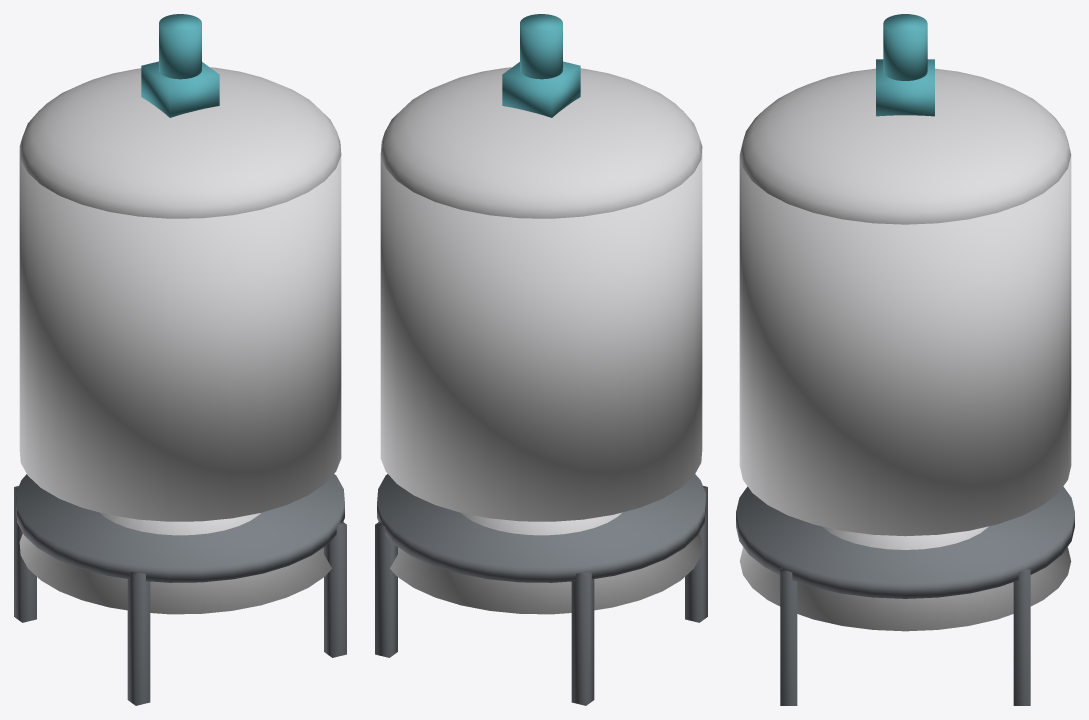
File: astm_vertical_tank.glb
3 views of the same model, side by side, from view 1: azimuth 30°, elevation 25°; view 2: azimuth 150°, elevation 25°; view 3: azimuth 270°, elevation 25° (orthographic). The views are drawn at different scales.
Parts seen in each view (by area): view 1: VerticalCylinderShell, TopDomeHead, StandRingGirder, ConeBottom, TankLeg_-0.95_-0.95, MixerGearbox, TankLeg_0.95_-0.95, MixerTEFCMotor, TankLeg_-0.95_0.95; view 2: VerticalCylinderShell, TopDomeHead, StandRingGirder, ConeBottom, TankLeg_-0.95_0.95, MixerGearbox, TankLeg_0.95_0.95, MixerTEFCMotor, TankLeg_-0.95_-0.95; view 3: VerticalCylinderShell, TopDomeHead, StandRingGirder, ConeBottom, MixerTEFCMotor, MixerGearbox, TankLeg_0.95_0.95, TankLeg_0.95_-0.95.
Part boxes in pixels (x1,y1,x2,y2): VerticalCylinderShell: [19, 149, 341, 521]; TopDomeHead: [19, 67, 341, 218]; StandRingGirder: [16, 474, 344, 582]; ConeBottom: [19, 512, 331, 614]; TankLeg_-0.95_-0.95: [127, 572, 150, 705]; MixerGearbox: [141, 61, 219, 117]; TankLeg_0.95_-0.95: [324, 520, 346, 657]; MixerTEFCMotor: [159, 14, 201, 79]; TankLeg_-0.95_0.95: [14, 486, 36, 622]; VerticalCylinderShell: [380, 149, 702, 521]; TopDomeHead: [380, 67, 702, 218]; StandRingGirder: [377, 474, 705, 582]; ConeBottom: [390, 512, 702, 614]; TankLeg_-0.95_0.95: [571, 572, 594, 705]; MixerGearbox: [502, 61, 580, 117]; TankLeg_0.95_0.95: [375, 520, 397, 657]; MixerTEFCMotor: [520, 14, 562, 79]; TankLeg_-0.95_-0.95: [685, 486, 707, 622]; VerticalCylinderShell: [739, 155, 1071, 536]; TopDomeHead: [739, 68, 1071, 224]; StandRingGirder: [736, 486, 1074, 598]; ConeBottom: [739, 526, 1071, 631]; MixerTEFCMotor: [883, 14, 927, 80]; MixerGearbox: [876, 59, 934, 116]; TankLeg_0.95_0.95: [1013, 567, 1030, 705]; TankLeg_0.95_-0.95: [780, 567, 797, 705].
Size of the model in its own units: 2.76 by 5.66 by 2.76.
